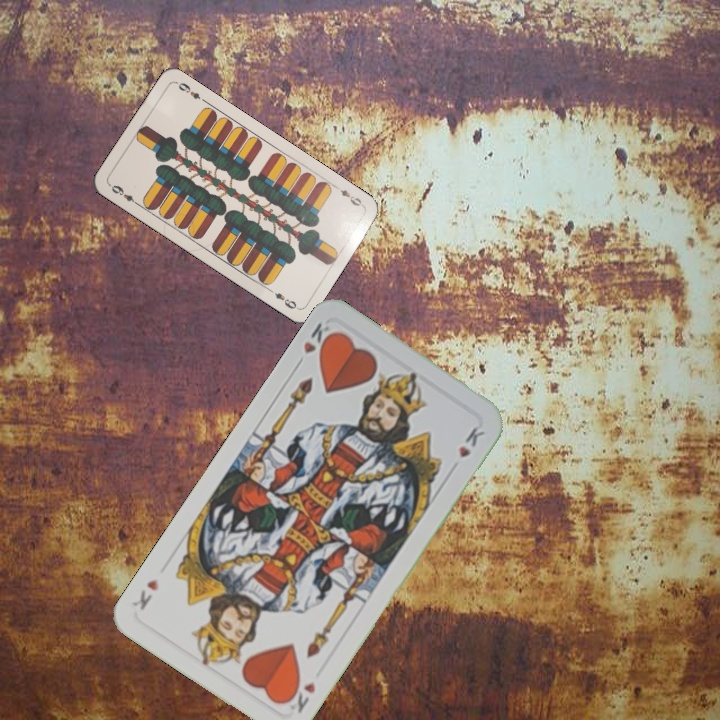E9: (331, 181, 367, 209), (107, 181, 142, 208)
HK: (299, 318, 338, 361), (280, 676, 318, 716)
